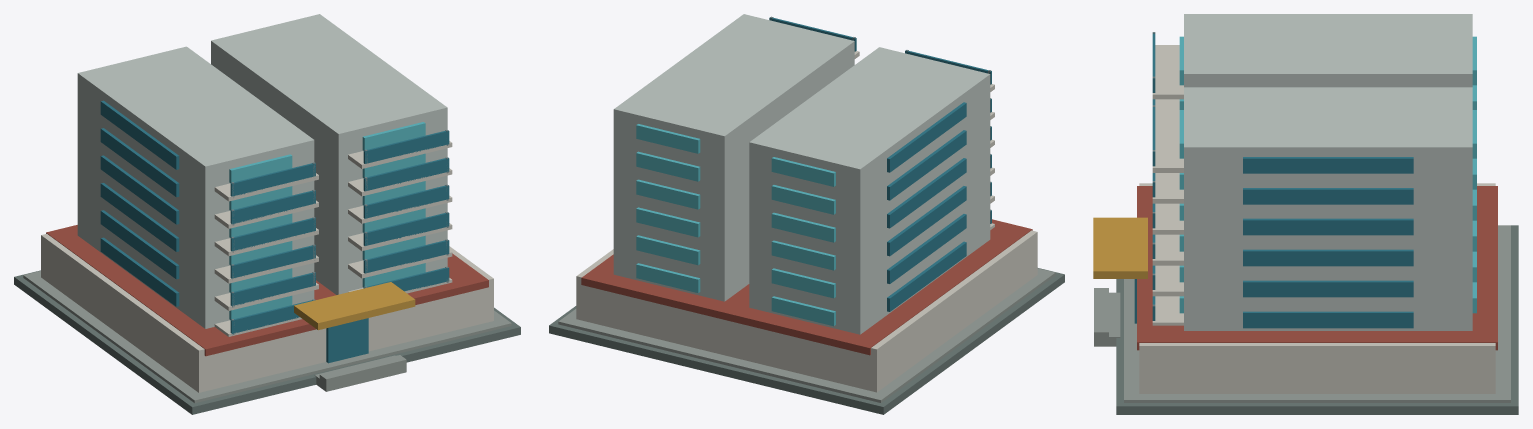
Rendered from apartment_lv1.glb.
The picture shows the model from 3 angles, left to right: view 1: azimuth 30°, elevation 25°; view 2: azimuth 150°, elevation 25°; view 3: azimuth 270°, elevation 25°; orthographic projection. The views are drawn at different scales.
Visible parts, largest first — view 1: rough, glossy, metallic; view 2: rough, glossy; view 3: rough, glossy.
Boxes of the visible parts, <box> form: rough: <box>14,14,520,414</box>; glossy: <box>100,100,449,363</box>; metallic: <box>231,129,448,335</box>; rough: <box>549,14,1064,414</box>; glossy: <box>636,17,991,326</box>; rough: <box>1093,14,1518,414</box>; glossy: <box>1134,33,1476,328</box>.
Bounding box in the file's own units: 9.8 × 6.15 × 9.73.
